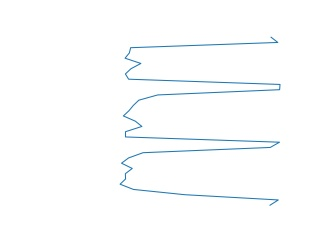majorRiverChannelBar: (118, 38, 285, 206)
